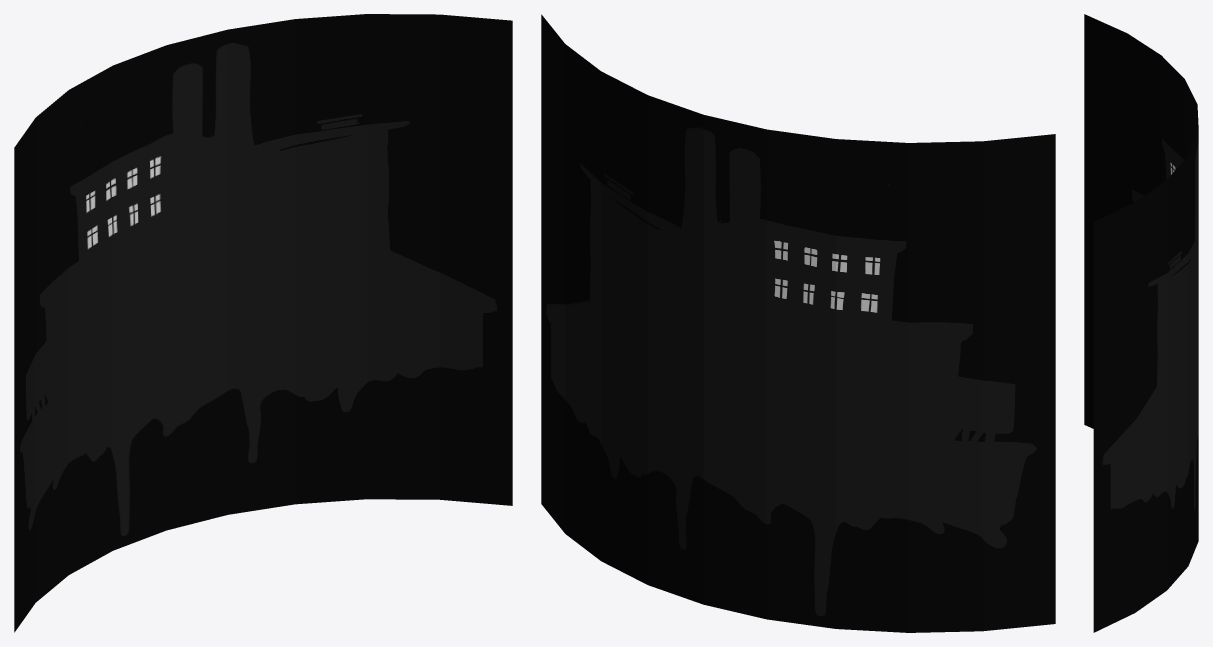
Rendered from Background_black.gltf.
3 views of the same model, side by side, from view 1: azimuth 30°, elevation 25°; view 2: azimuth 150°, elevation 25°; view 3: azimuth 270°, elevation 25° (orthographic). The views are drawn at different scales.
Parts seen in each view (by area): view 1: Plane; view 2: Plane; view 3: Plane.
Boxes of the visible parts, left/top/right/bottom form: Plane: left=14, top=14, right=512, bottom=632; Plane: left=541, top=14, right=1055, bottom=632; Plane: left=1084, top=14, right=1198, bottom=632.
Bounding box in the file's own units: 4.08 × 3.76 × 0.9493.
1 material, 1 textured.
